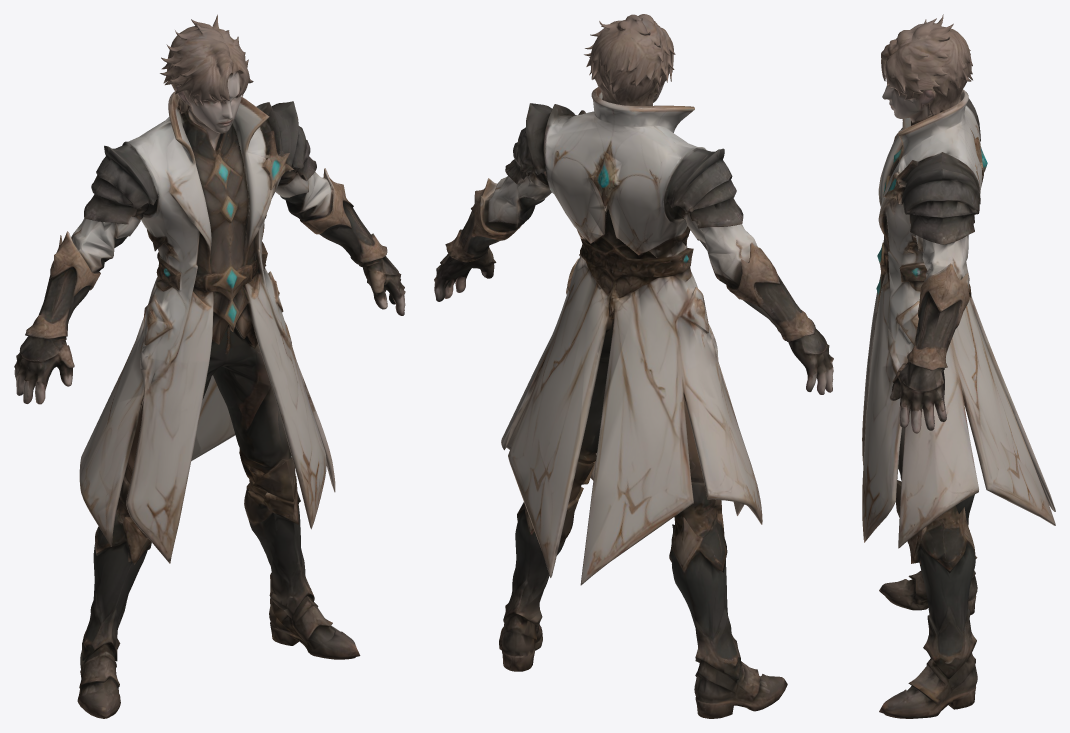
Rendered from battlemage.glb.
3 renders of one model, left to right at view 1: azimuth 30°, elevation 25°; view 2: azimuth 150°, elevation 25°; view 3: azimuth 270°, elevation 25°, orthographic. The views are drawn at different scales.
Visible parts, largest first — view 1: material; view 2: material; view 3: material.
Part boxes in pixels (x1=…): material: x1=14, y1=14, x2=405, y2=718; material: x1=434, y1=14, x2=833, y2=718; material: x1=862, y1=14, x2=1055, y2=718.
Size of the model in its own units: 1.08 by 1.76 by 0.4869.
1 material, 1 textured.
